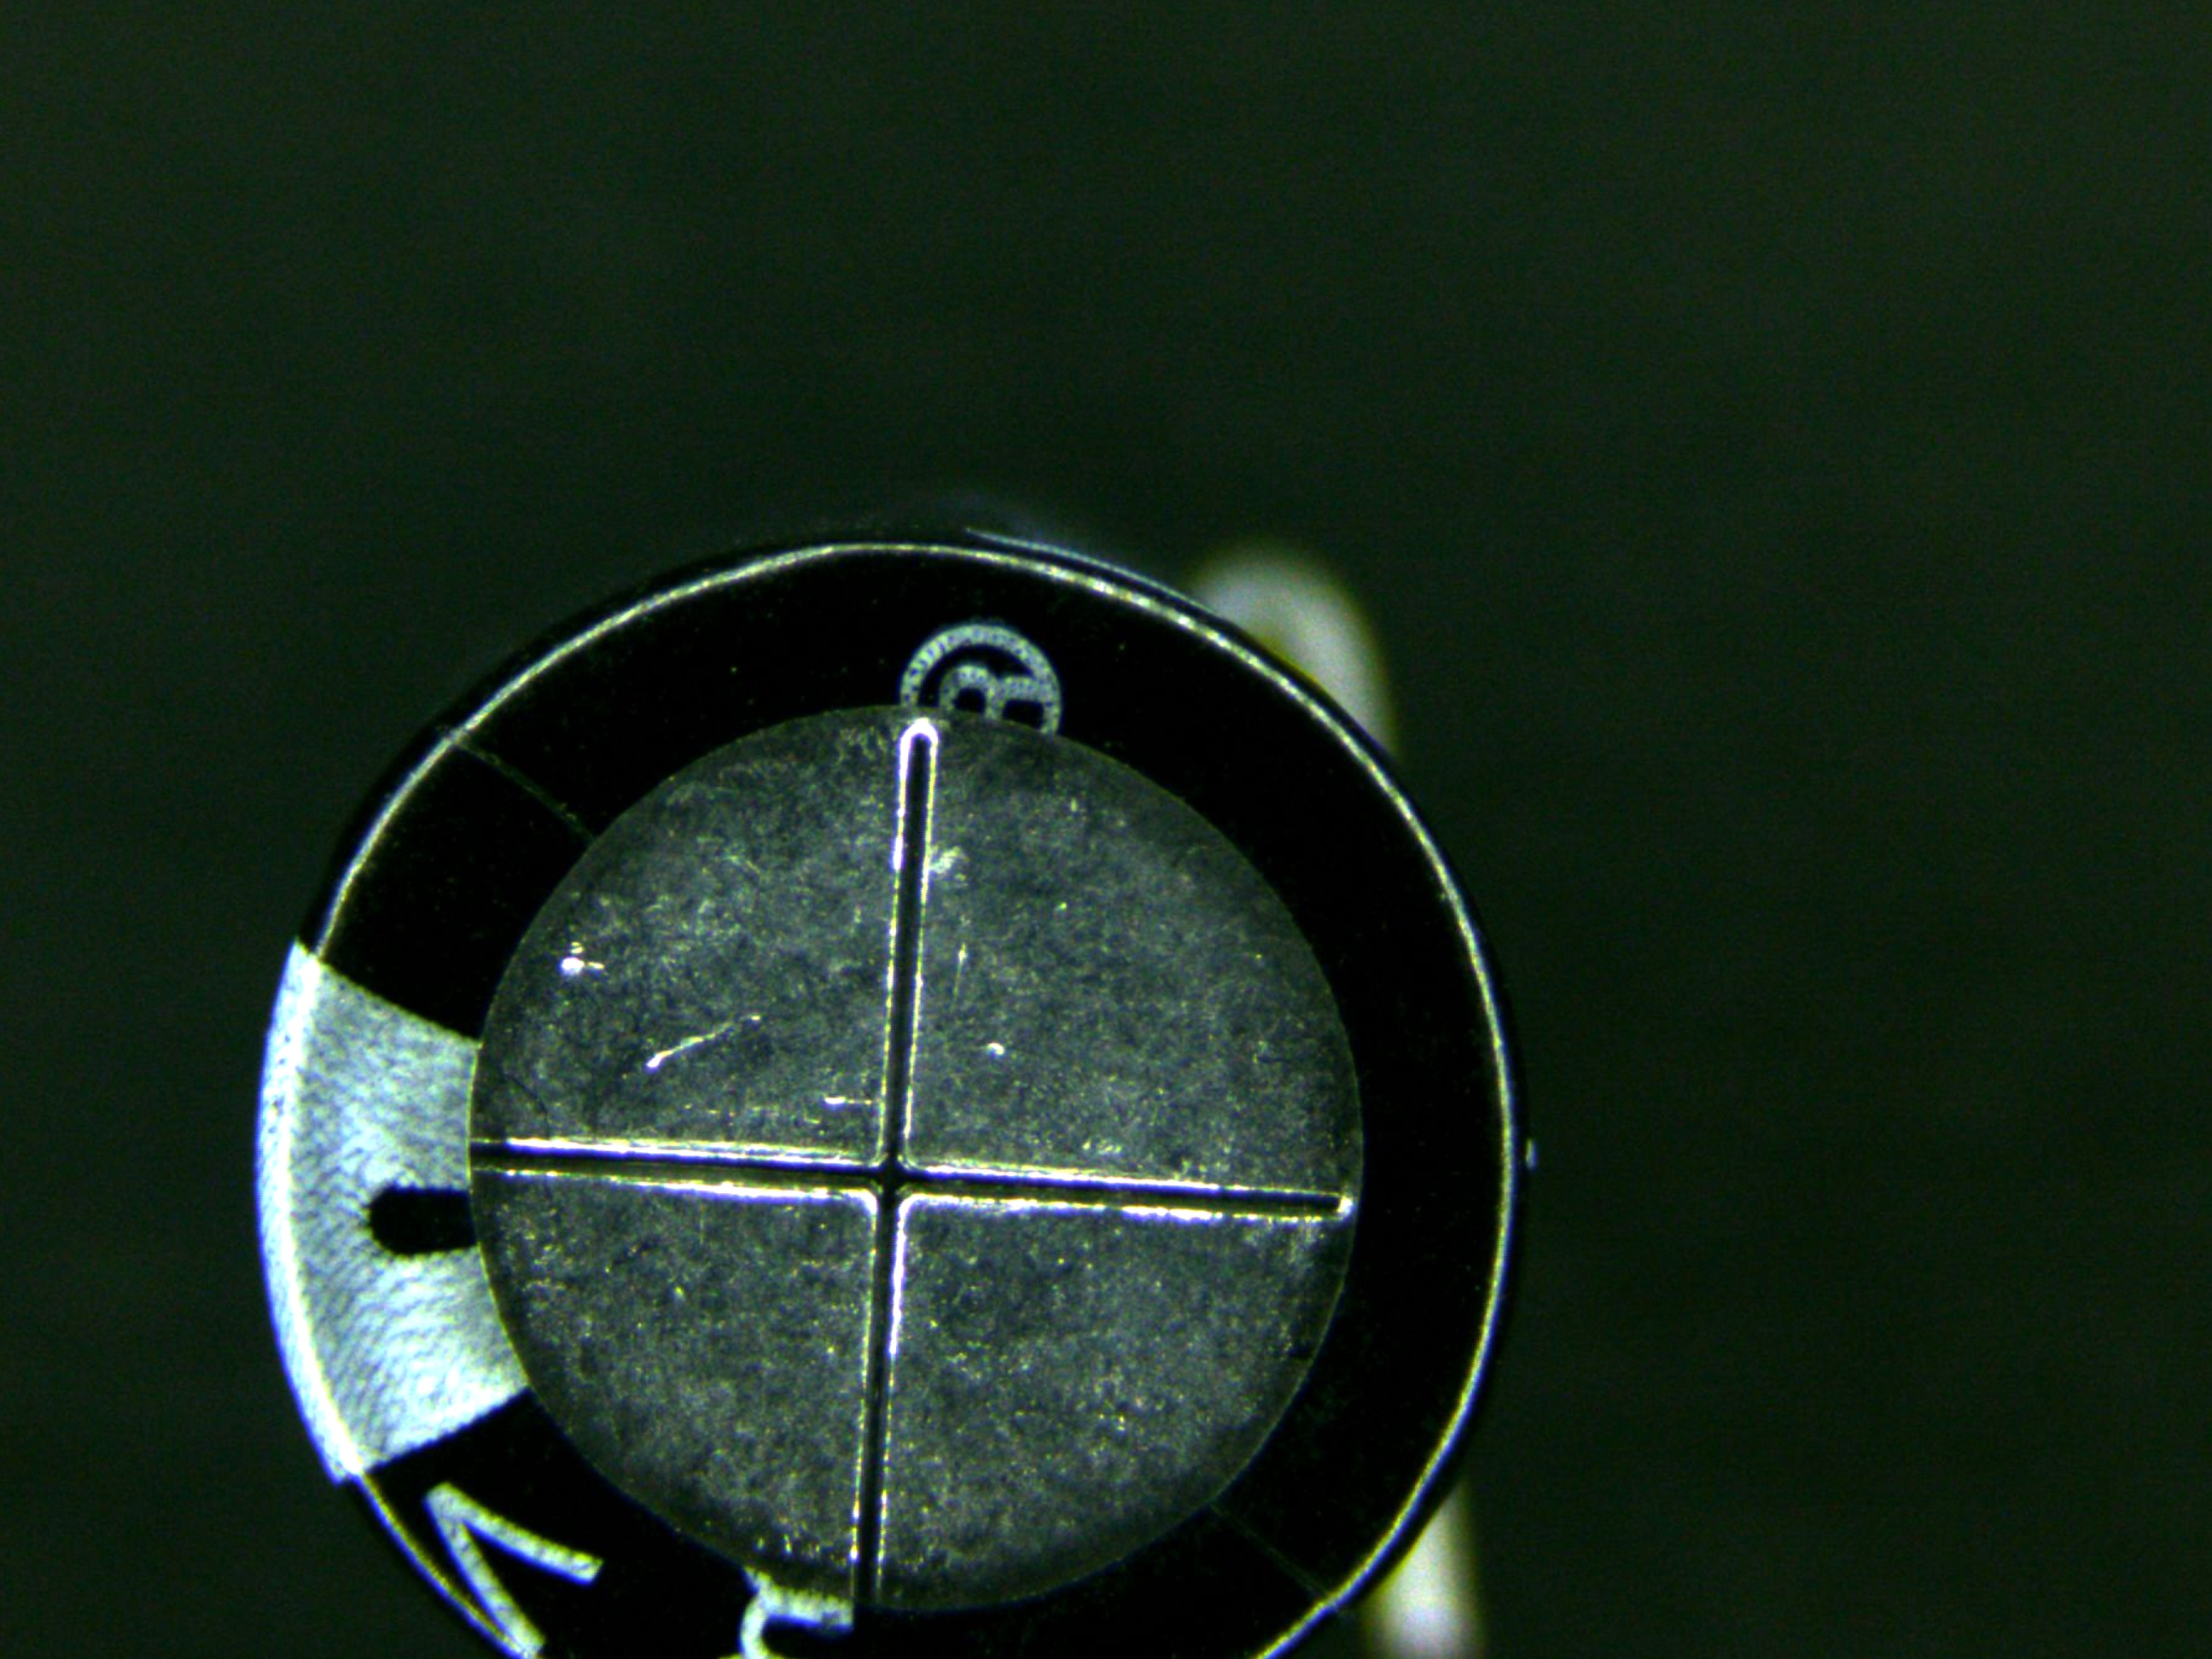c3: (247, 525, 1521, 1659)
